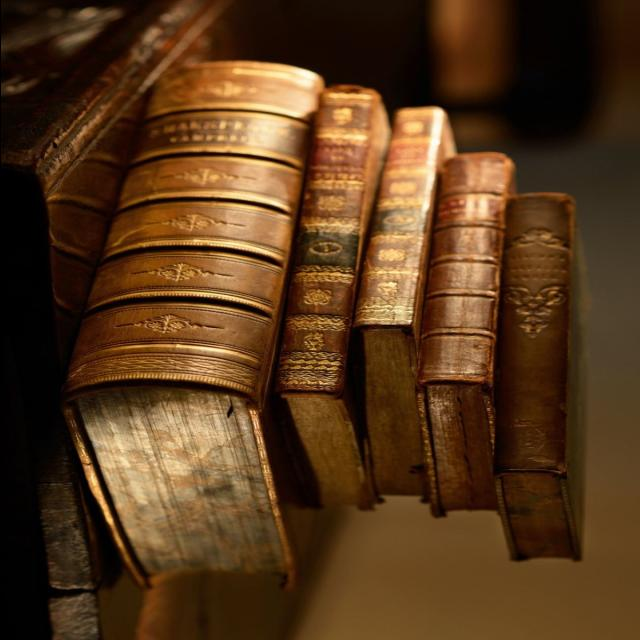book: (48, 51, 340, 596)
